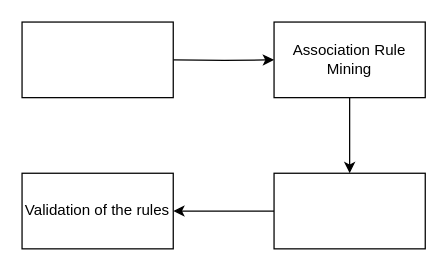
The diagram is 447 pixels wide and 271 high, and some of its shapes have lost their labels. The box of each missing label's shape, as (x1, y1, x2, y2) in pixels:
Extracting interesting patterns from the rules obtained: (273, 172, 425, 249)
Preprocessing the Dataset: (21, 21, 173, 98)
